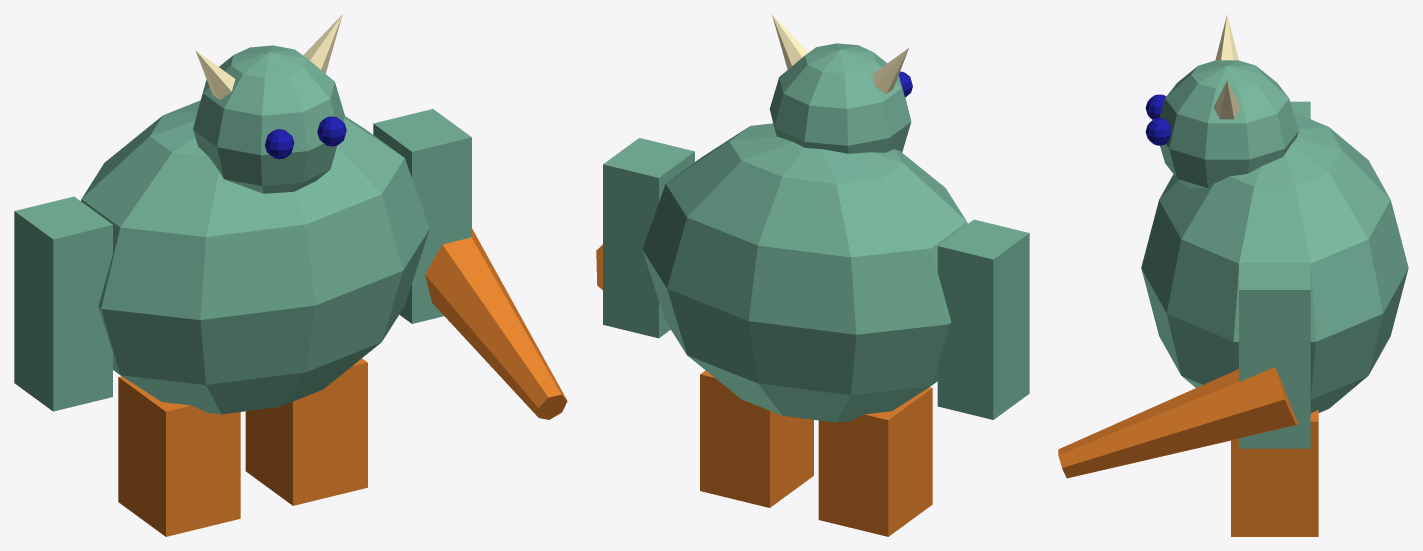
Rendered from brute.obj.
The picture shows the model from 3 angles, left to right: view 1: azimuth 30°, elevation 25°; view 2: azimuth 150°, elevation 25°; view 3: azimuth 270°, elevation 25°; orthographic projection. The views are drawn at different scales.
Visible parts, largest first — view 1: brute; view 2: brute; view 3: brute.
Boxes of the visible parts, <box> form: brute: <box>14,14,567,536</box>; brute: <box>596,14,1029,536</box>; brute: <box>1058,14,1408,536</box>.
Size of the model in its own units: 1.18 by 1.23 by 0.8802.
